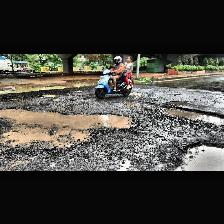pothole: (0, 106, 136, 148), (168, 140, 224, 170), (161, 105, 223, 124), (168, 99, 190, 105)
